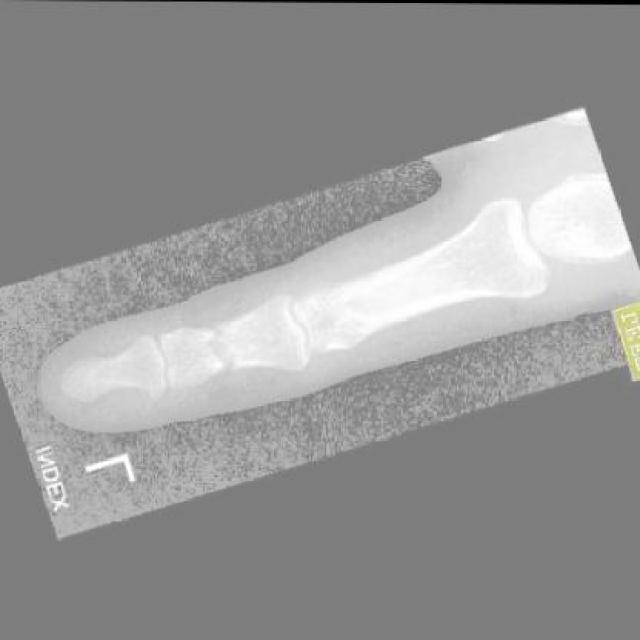Fracture: (193, 310, 256, 378)
